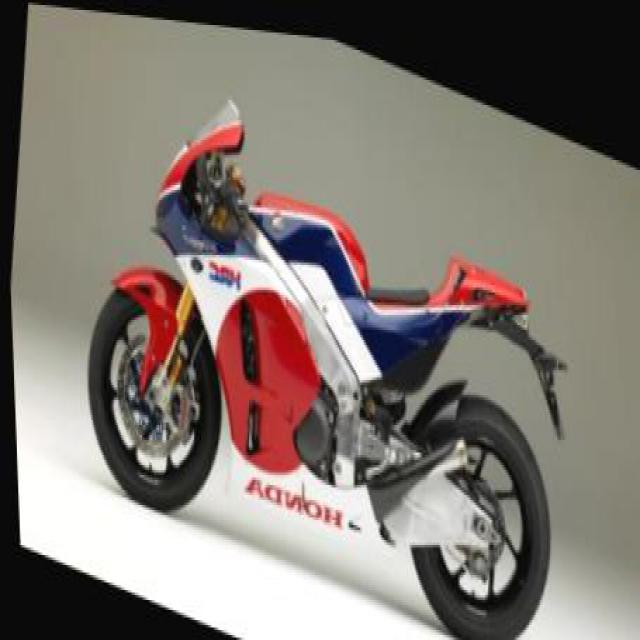HRC RCV 213: (60, 38, 582, 638)
